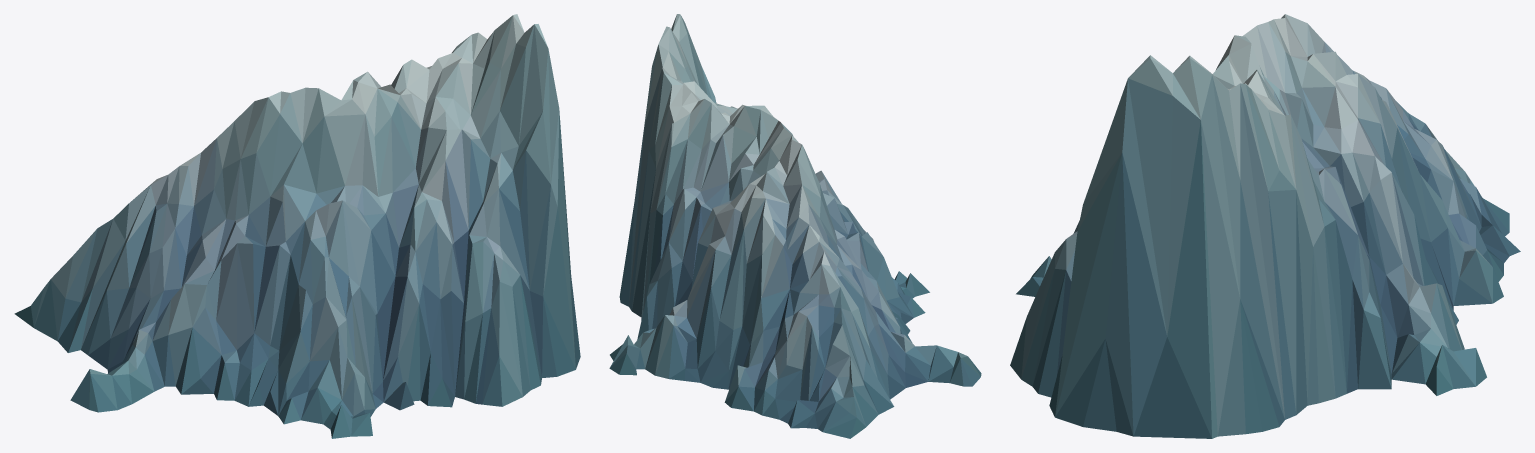
The model's file is Iceberg_ChunkA.fbx.
3 views of the same model, side by side, from view 1: azimuth 30°, elevation 25°; view 2: azimuth 150°, elevation 25°; view 3: azimuth 270°, elevation 25° (orthographic). The views are drawn at different scales.
Parts seen in each view (by area): view 1: Iceberg_ChunkA; view 2: Iceberg_ChunkA; view 3: Iceberg_ChunkA.
Boxes of the visible parts, x1=… form: Iceberg_ChunkA: x1=14, y1=14, x2=580, y2=438; Iceberg_ChunkA: x1=609, y1=14, x2=981, y2=438; Iceberg_ChunkA: x1=1010, y1=14, x2=1520, y2=438.
Size of the model in its own units: 5300 by 3563 by 4550.
